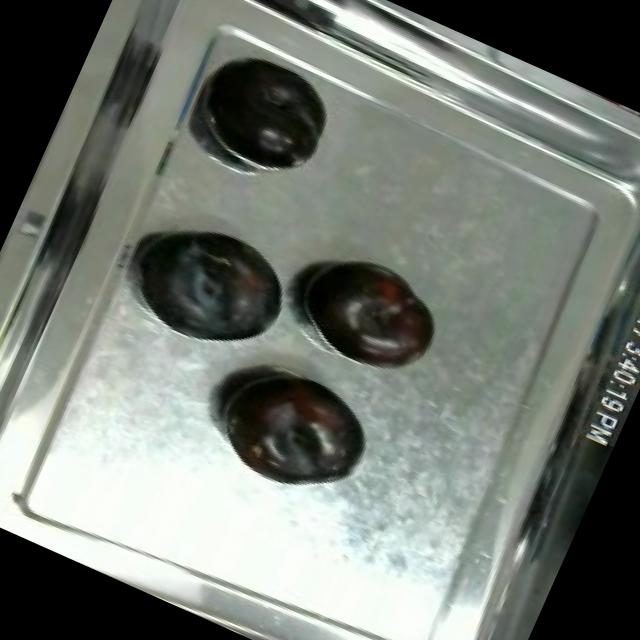Fruit: (198, 343, 390, 514), (120, 200, 304, 368), (283, 235, 459, 389), (188, 41, 348, 185)
